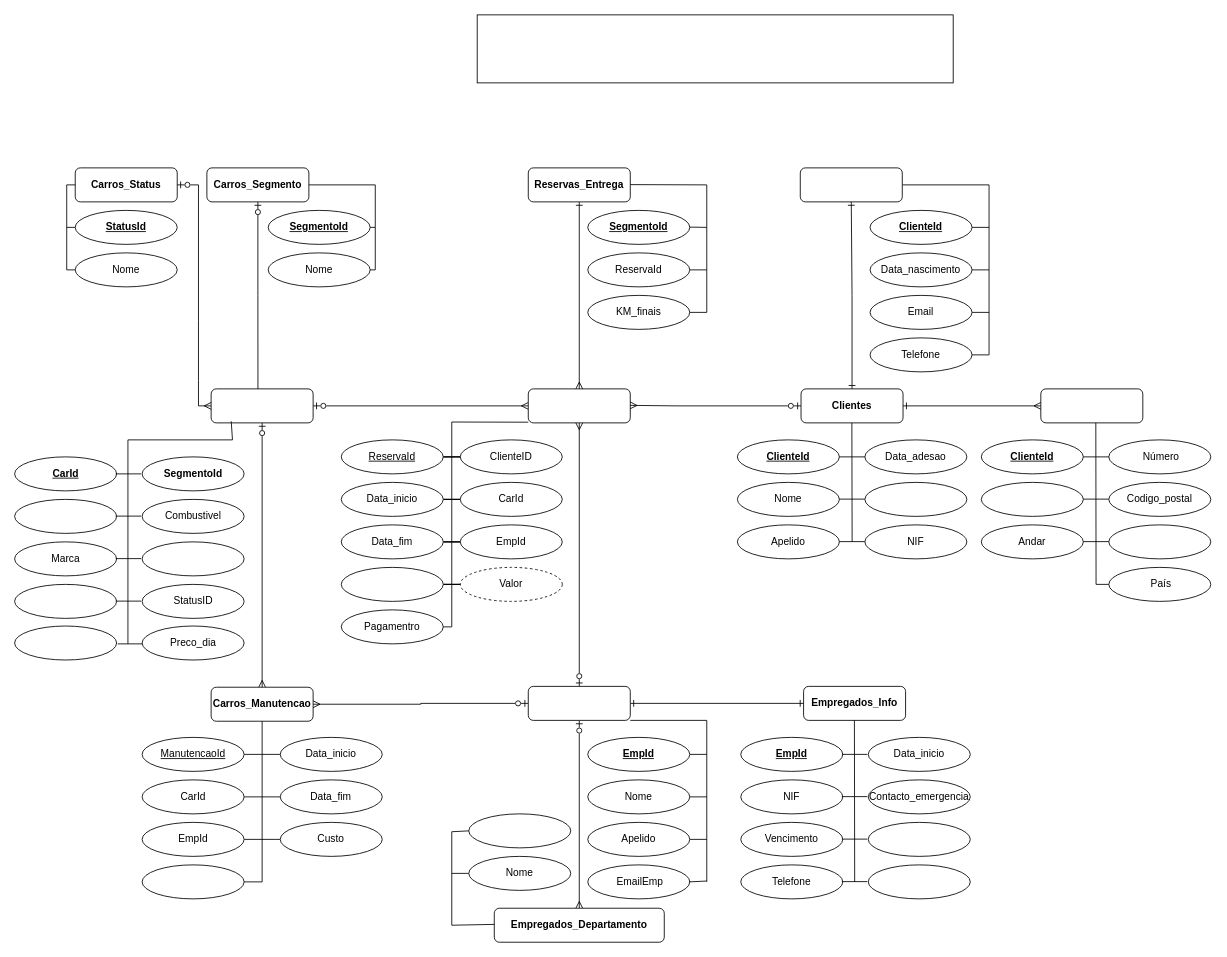
Image size: 1227x957. Some labels were removed from this diagram. The shapes that lost their labels are listed below. From the top down, each one's box as (x1, y1, x2, y2) in pixels, then its label:
(476, 14, 953, 83): Modelo de dados lógico Passeios – Serviços de Aluguer de Carros, Lda
(799, 167, 902, 202): Clientes_Info
(210, 388, 313, 423): Carros
(527, 388, 630, 423): Reservas
(1040, 388, 1143, 423): Clientes_Morada
(14, 499, 117, 533): Matricula
(864, 482, 967, 516): Carta
(980, 482, 1083, 516): Rua
(141, 541, 244, 576): KM
(1108, 524, 1211, 559): Cidade
(14, 584, 117, 618): Modelo
(340, 567, 443, 601): Data_pagamentro
(14, 625, 117, 660): Ano
(527, 686, 630, 720): Empregados
(468, 813, 571, 848): DepId
(867, 822, 970, 856): Nome_cont_emerg
(141, 864, 244, 899): Intervencao
(867, 864, 970, 899): Apelido_cont_emerg
